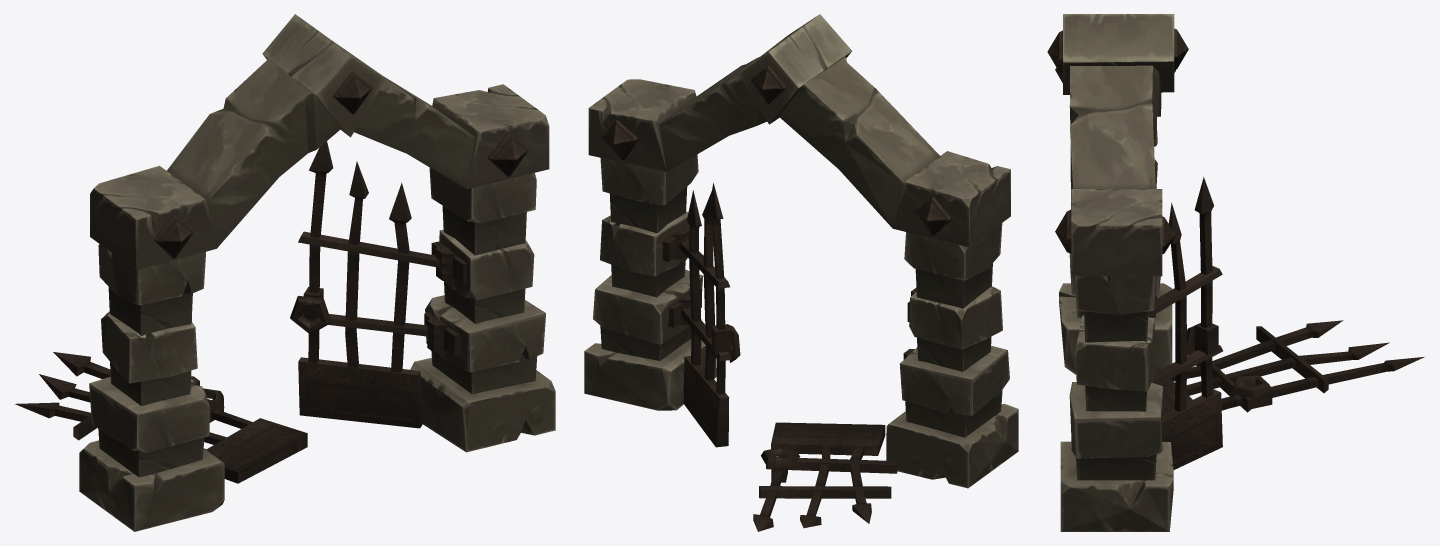
The model's file is humgraveyard_gate_02.fbx.
The picture shows the model from 3 angles, left to right: view 1: azimuth 30°, elevation 25°; view 2: azimuth 150°, elevation 25°; view 3: azimuth 270°, elevation 25°; orthographic projection. The views are drawn at different scales.
Visible parts, largest first — view 1: obj0.559; view 2: obj0.559; view 3: obj0.559.
Boxes of the visible parts, x1,y1,x2,y2 form: obj0.559: [15, 14, 555, 531]; obj0.559: [584, 14, 1018, 531]; obj0.559: [1047, 14, 1424, 531].
Size of the model in its own units: 6.2 by 5.86 by 4.76.
